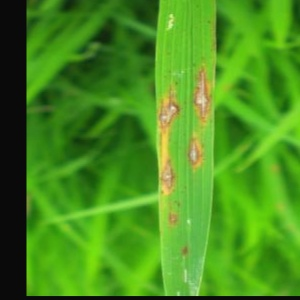Brown_Spot: (181, 58, 229, 123), (182, 126, 210, 171), (157, 90, 185, 135), (158, 156, 179, 196)
